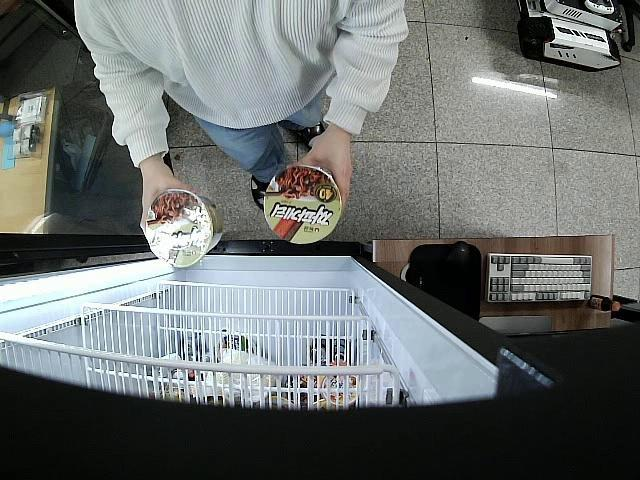03_chapagetti_L: (144, 192, 224, 268), (265, 167, 340, 243)
